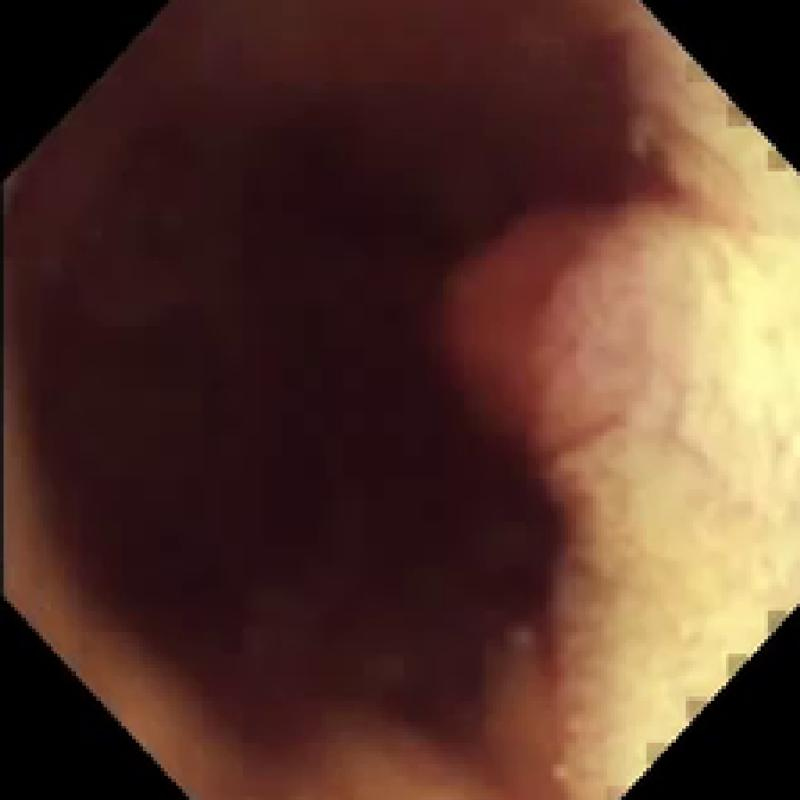bleeding: (7, 4, 654, 764)
